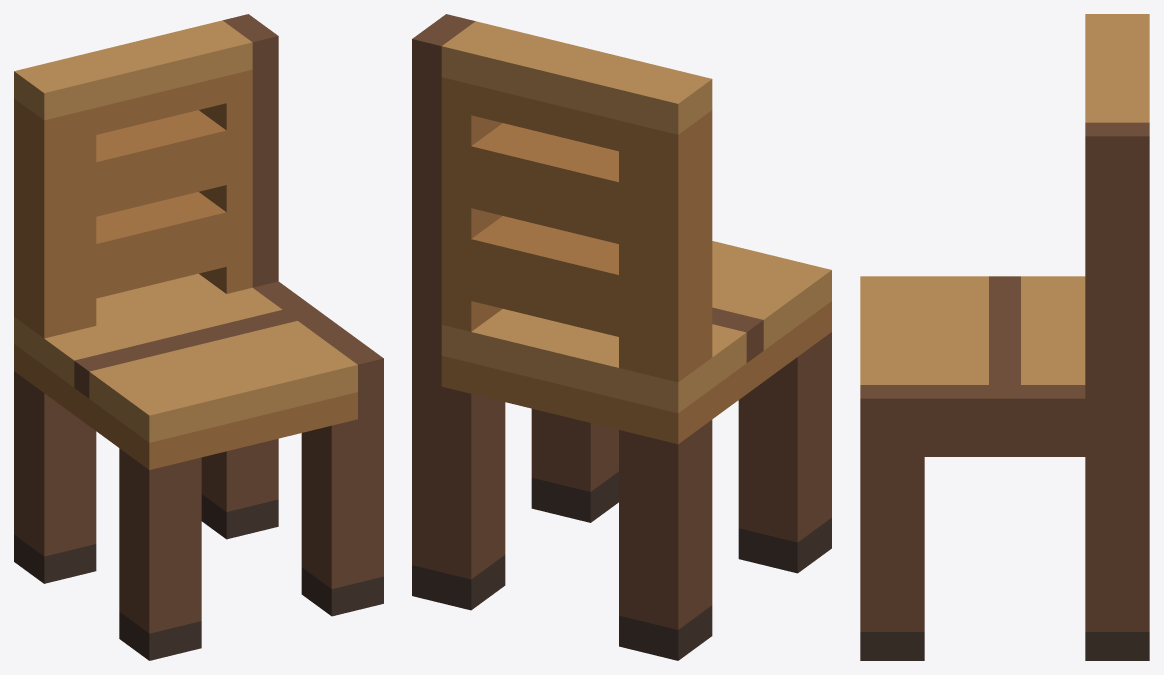
The picture shows the model from 3 angles, left to right: view 1: azimuth 30°, elevation 25°; view 2: azimuth 150°, elevation 25°; view 3: azimuth 270°, elevation 25°; orthographic projection. The views are drawn at different scales.
Parts seen in each view (by area): view 1: oak_geometry, wood_geometry, oak_light_geometry, wood_dark_geometry; view 2: oak_geometry, wood_geometry, oak_light_geometry, wood_dark_geometry; view 3: wood_geometry, oak_light_geometry, wood_dark_geometry.
Boxes of the visible parts, x1,y1,x2,y2 form: oak_geometry: [14, 69, 357, 469]; wood_geometry: [14, 14, 383, 633]; oak_light_geometry: [14, 20, 357, 442]; wood_dark_geometry: [14, 494, 383, 660]; oak_geometry: [441, 77, 831, 444]; wood_geometry: [412, 14, 831, 629]; oak_light_geometry: [441, 21, 831, 413]; wood_dark_geometry: [412, 471, 831, 660]; wood_geometry: [860, 122, 1149, 631]; oak_light_geometry: [860, 14, 1149, 384]; wood_dark_geometry: [860, 632, 1149, 660].
Size of the model in its own units: 0.45 by 0.9 by 0.45.
